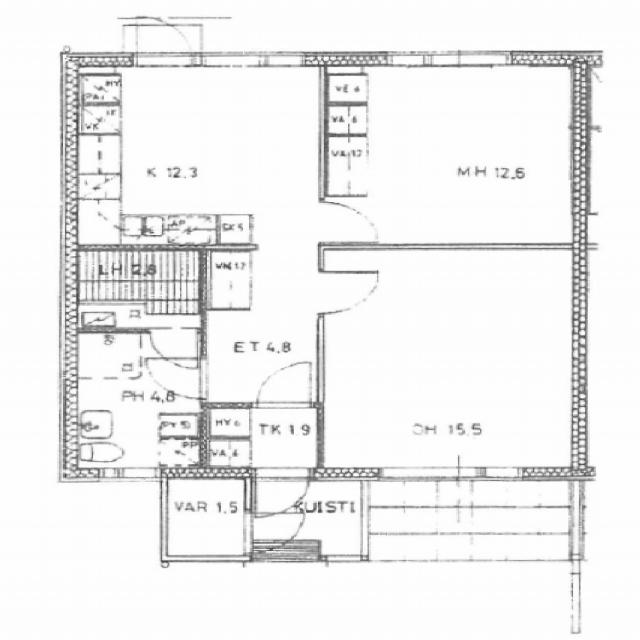door: (138, 12, 194, 66), (255, 468, 311, 518), (317, 201, 381, 242), (244, 513, 307, 553), (317, 273, 380, 313), (147, 358, 208, 398), (256, 363, 310, 408), (150, 326, 196, 366)
